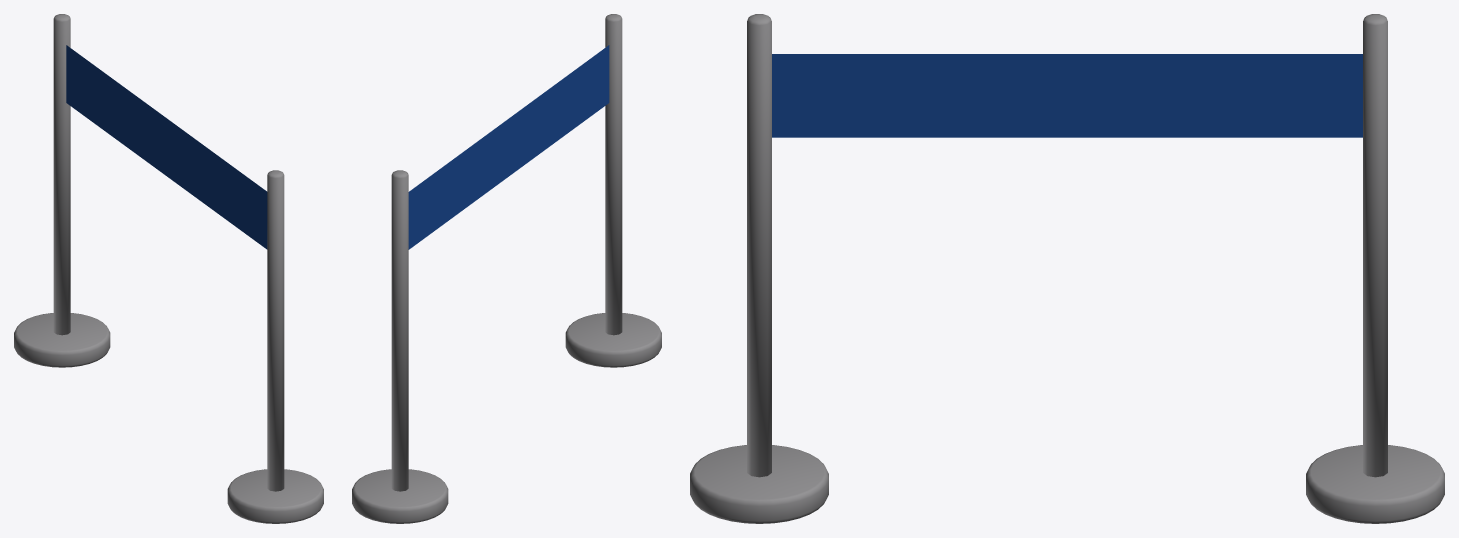
File: pinch-barrier-blue.gltf
3 renders of one model, left to right at view 1: azimuth 30°, elevation 25°; view 2: azimuth 150°, elevation 25°; view 3: azimuth 270°, elevation 25°, orthographic. The views are drawn at different scales.
Parts seen in each view (by area): view 1: Box2, pipe003 (×2), bottom004 (×2); view 2: Box2, pipe003 (×2), bottom004 (×2); view 3: Box2, pipe003 (×2), bottom004 (×2).
Boxes of the visible parts, box(x1,y1,x2,y2) form: Box2: box(66, 45, 267, 249); pipe003 (×2): box(53, 14, 284, 491); bottom004 (×2): box(14, 313, 323, 523); Box2: box(408, 45, 609, 249); pipe003 (×2): box(391, 14, 622, 491); bottom004 (×2): box(352, 313, 661, 523); Box2: box(772, 54, 1362, 137); pipe003 (×2): box(747, 14, 1387, 477); bottom004 (×2): box(690, 445, 1444, 523).
Size of what is drawn, in the model's own units: 0.2267 by 0.8582 by 1.23.
